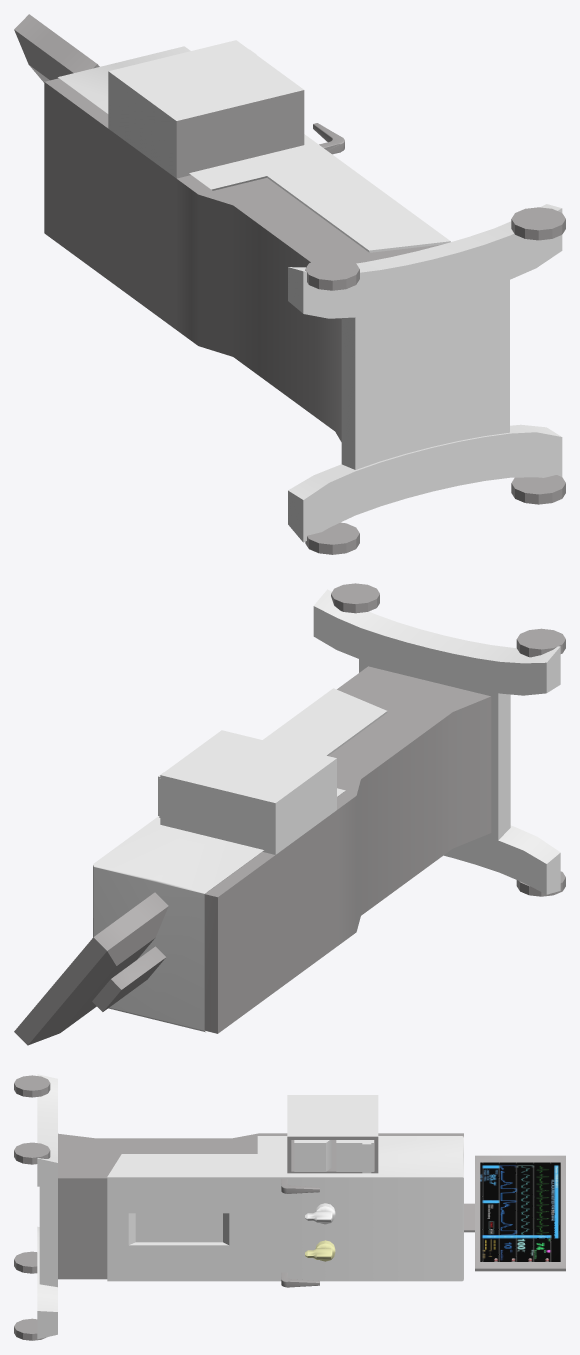
3 views of the same model, one above another, from view 1: azimuth 30°, elevation 25°; view 2: azimuth 150°, elevation 25°; view 3: azimuth 270°, elevation 25° (orthographic). The views are drawn at different scales.
Parts seen in each view (by area): view 1: Cube.004; view 2: Cube.004; view 3: Cube.004.
Boxes of the visible parts, x1,y1,x2,y2 form: Cube.004: [14, 14, 565, 554]; Cube.004: [14, 583, 565, 1045]; Cube.004: [14, 1074, 565, 1340].
Bounding box in the file's own units: 38.02 × 38.67 × 105.
